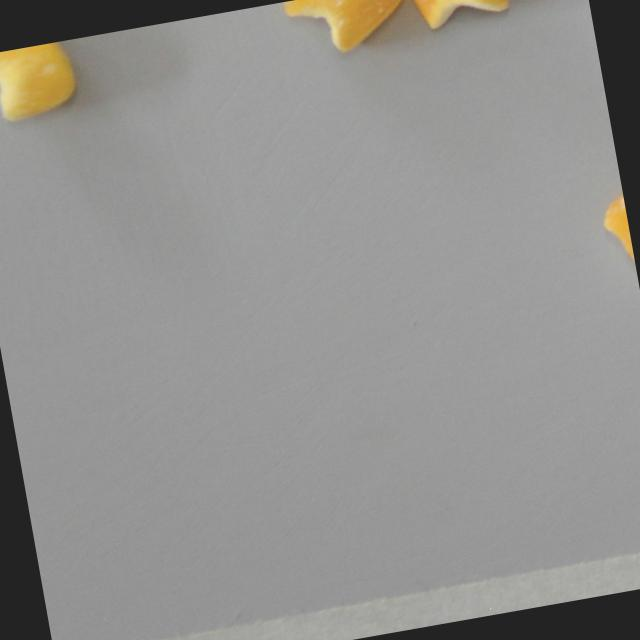no_canjicado: (0, 39, 83, 125), (409, 0, 512, 33)
pelicula: (281, 0, 416, 61), (595, 176, 640, 305)
